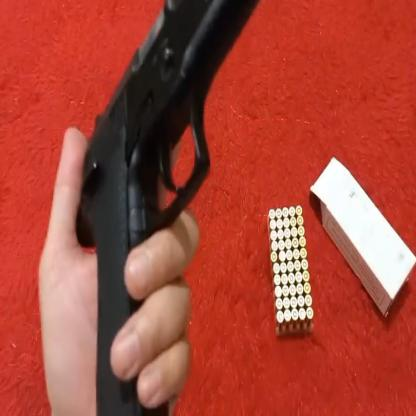handgun: (61, 0, 269, 416)
